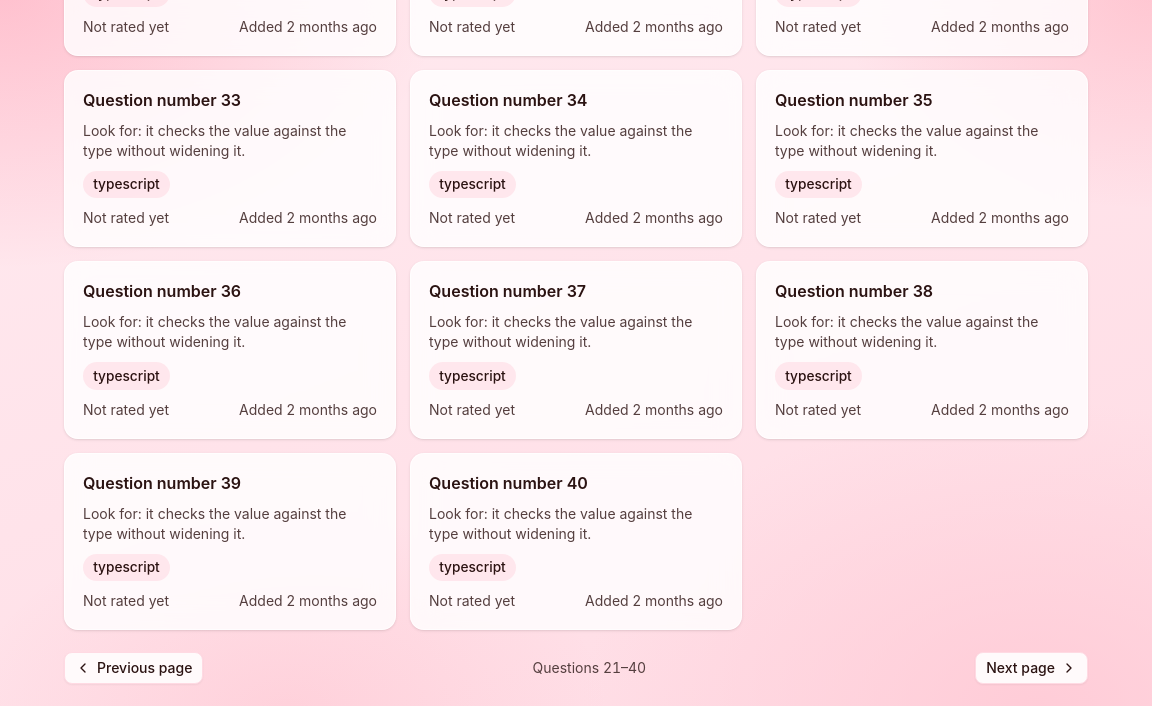
Scenario: paging through the bank › moves back to the page before
(page scrolled)
Click the button "Previous page": (134, 668) top-left (64, 652), bottom-right (204, 684)
(page scrolled)
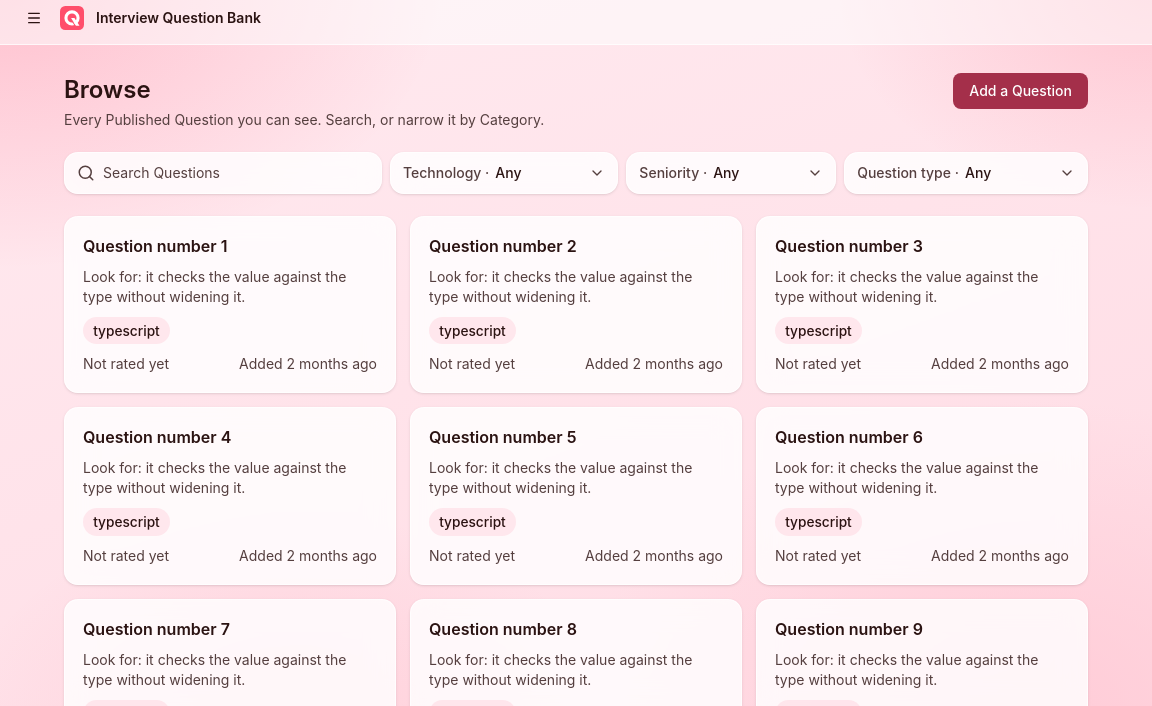
expect the link "Question number 1" is shown: met, box top-left (83, 236), bottom-right (227, 256)
